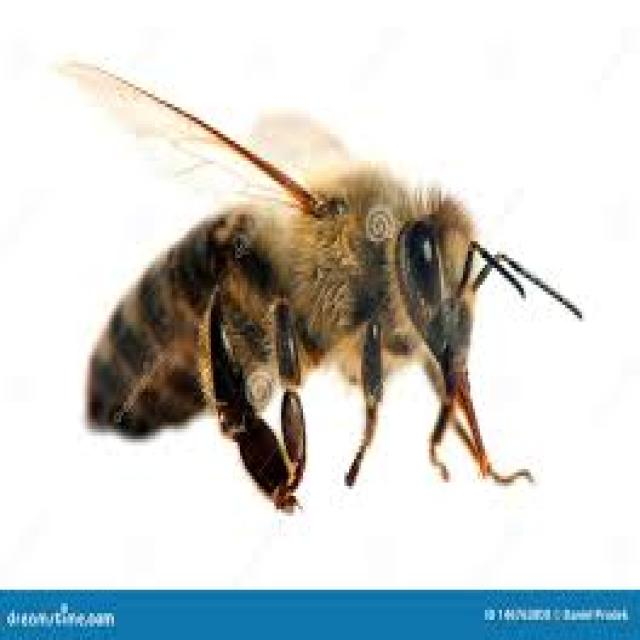Bees: (62, 55, 583, 521)
